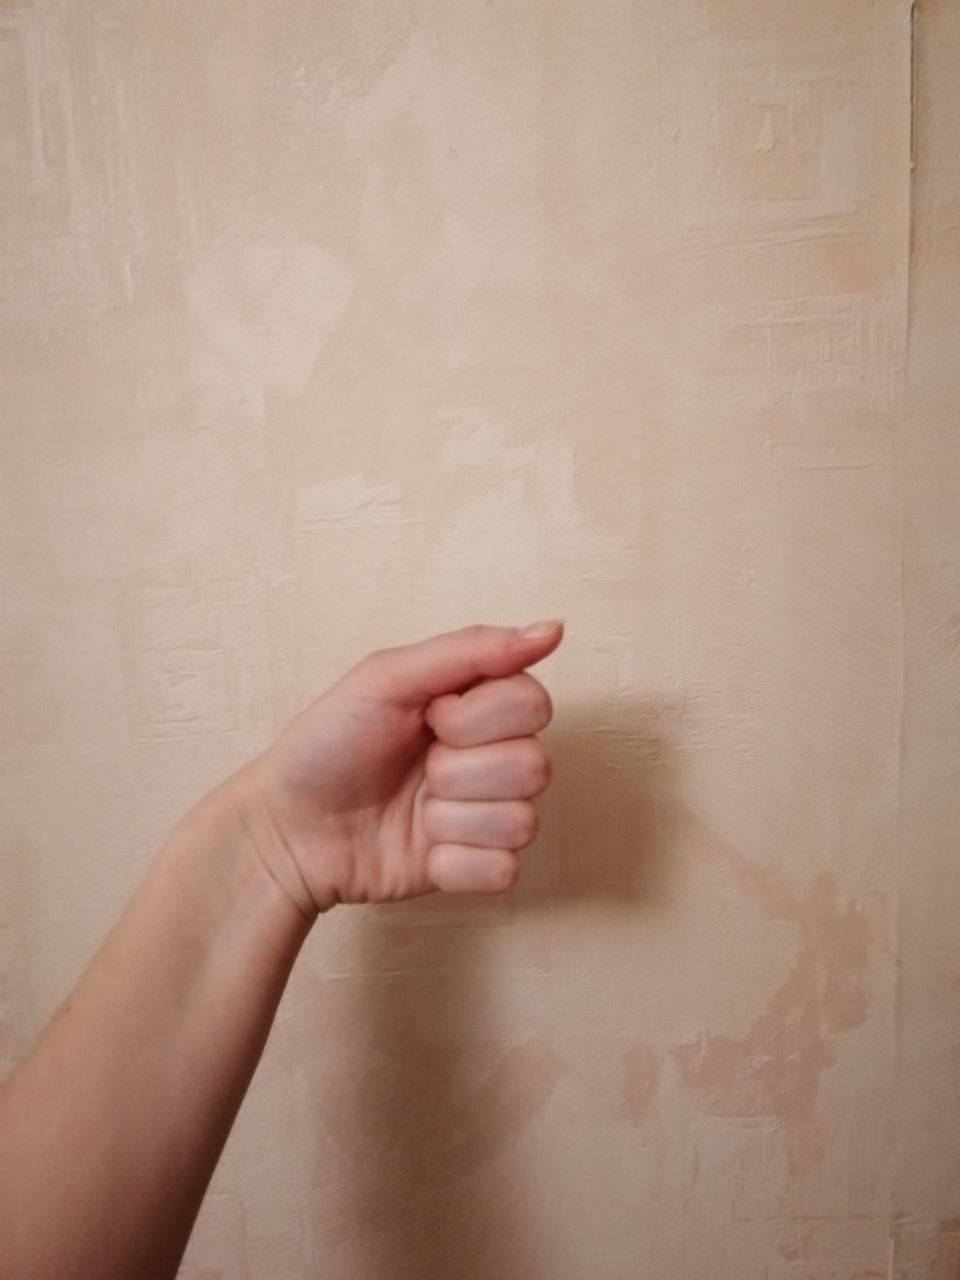hand: (311, 630, 549, 879)
